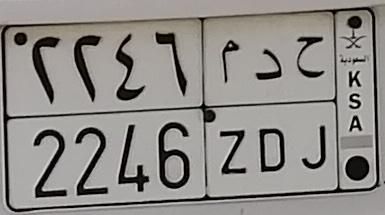2: (31, 33, 70, 198), (74, 32, 109, 197)
4: (114, 33, 152, 193)
6: (153, 30, 193, 189)
D: (255, 46, 286, 172)
J: (295, 34, 327, 170)
Z: (217, 38, 248, 175)
